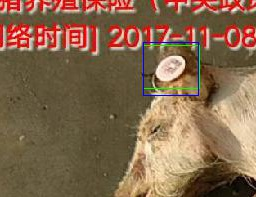text: (143, 45, 199, 88)
